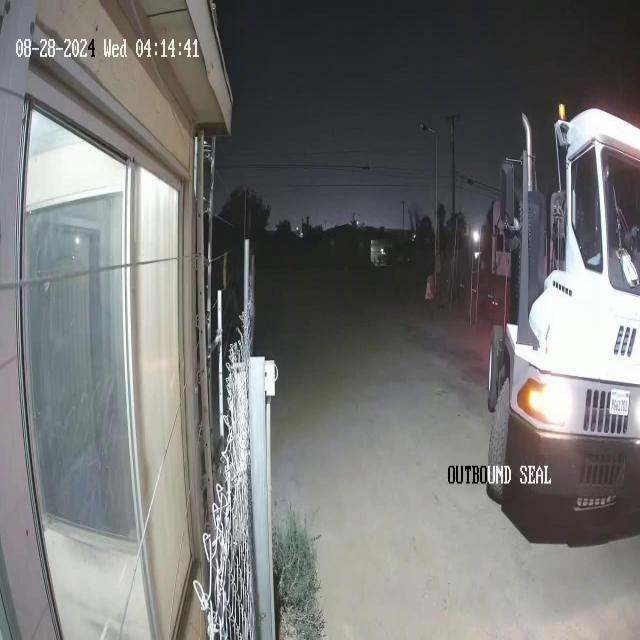TRUCK_IN: (485, 101, 639, 546)
